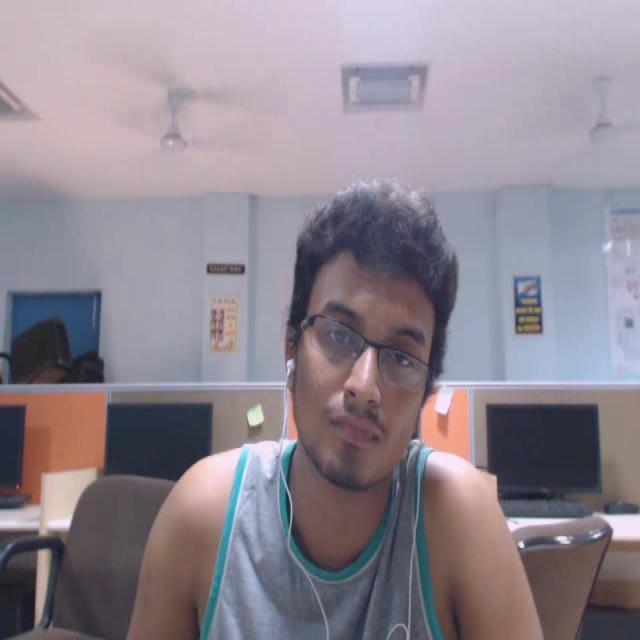Bored: (264, 146, 500, 503)
